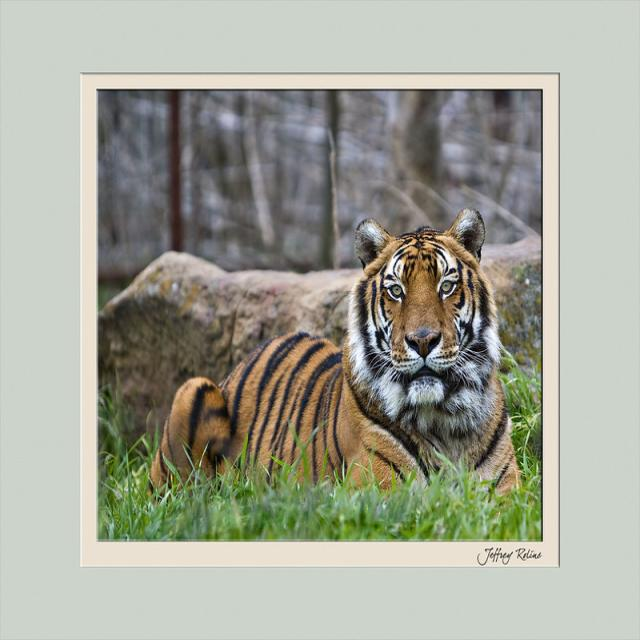Tiger: (144, 201, 525, 512)
